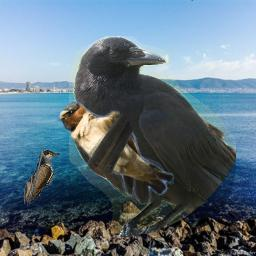Crow: (69, 36, 236, 236)
Cuckoo: (24, 150, 68, 206)
Swallow: (56, 101, 174, 205)
